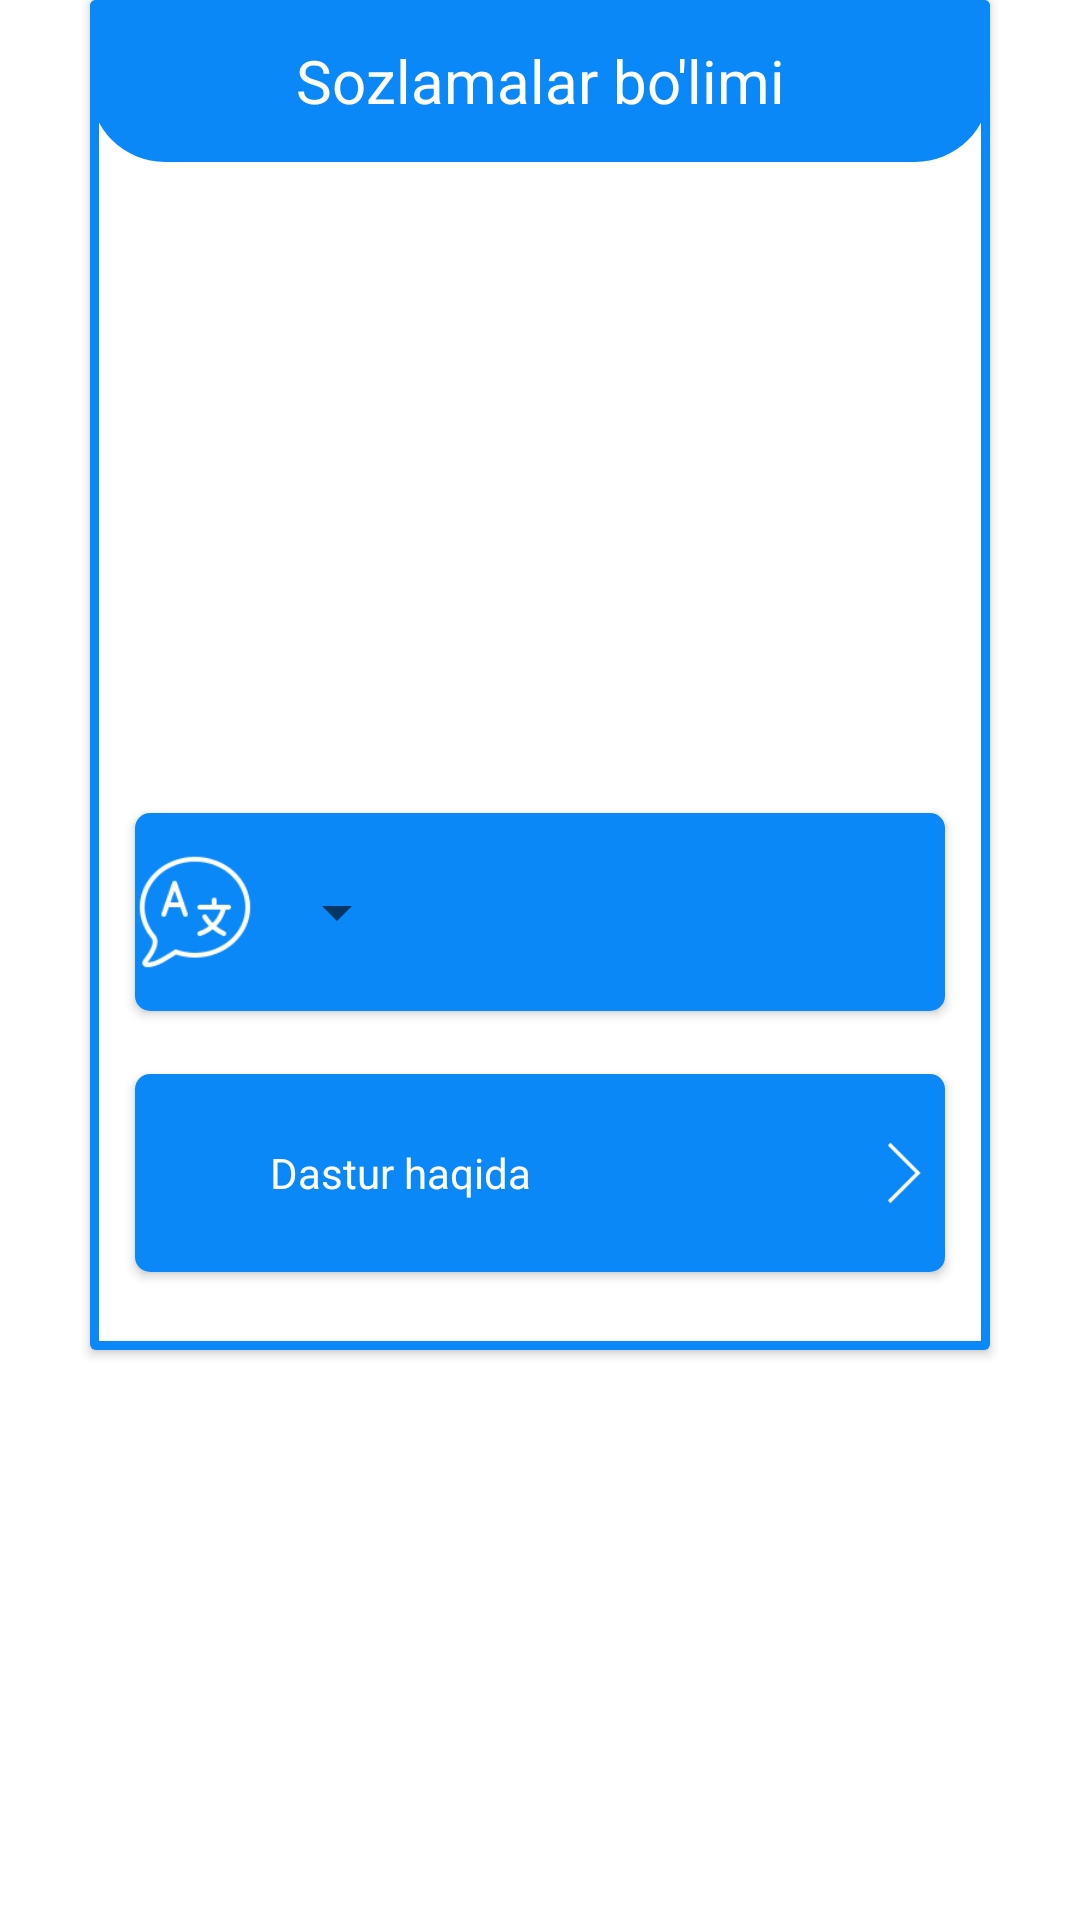

Named icons in this screenshot (1080w x 1920h) and their centers, (x,y):
language: (195,912)
moree: (904,1173)
